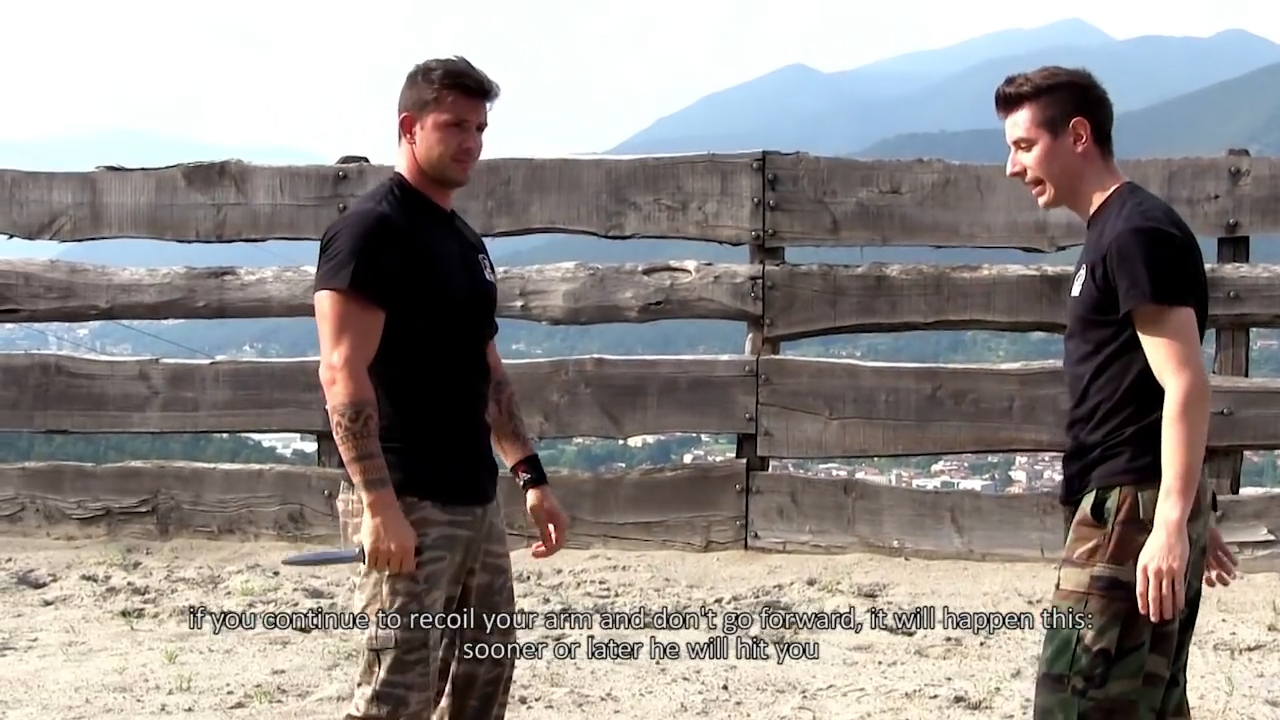knife: (269, 538, 426, 583)
